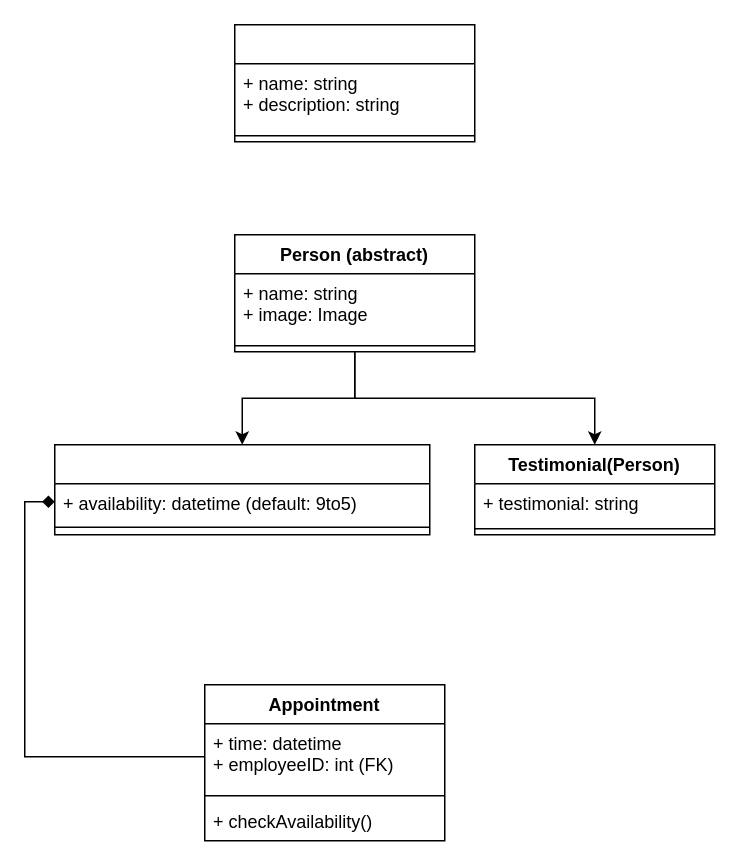
The diagram is 740 pixels wide and 866 high, and some of its shapes have lost their labels. Each missing label, with the box of its shape:
Employee(Person): (53, 443, 430, 535)
Product: (233, 23, 475, 142)
